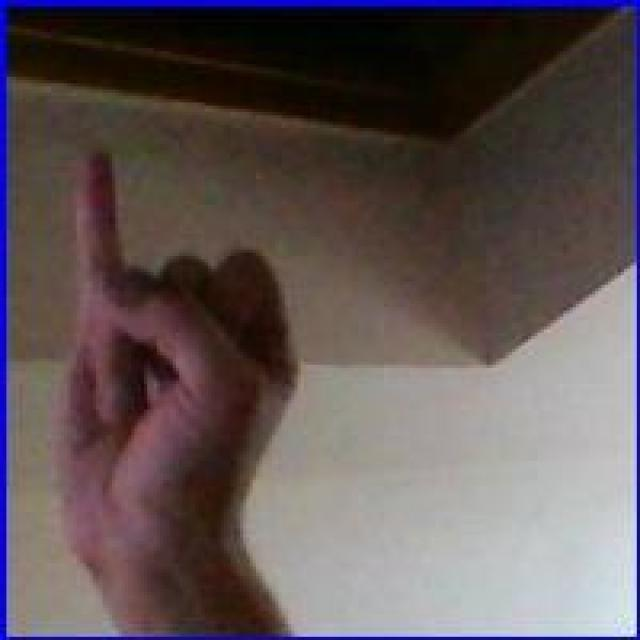I: (43, 145, 309, 580)
